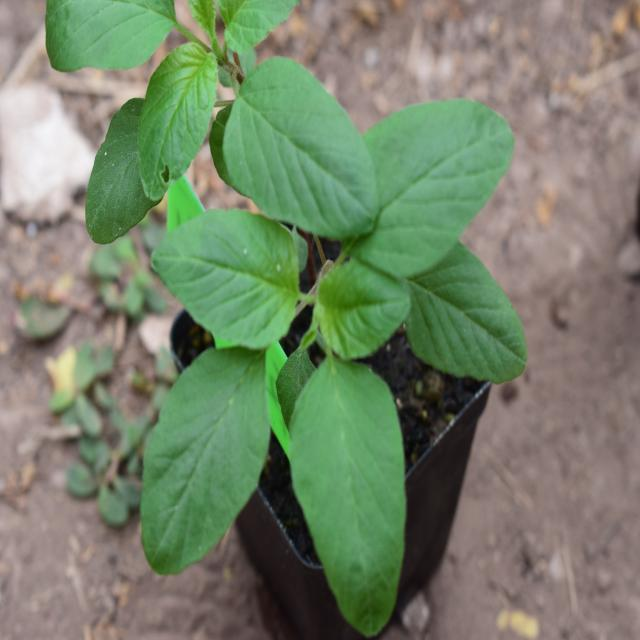pigweed: (136, 56, 503, 586)
